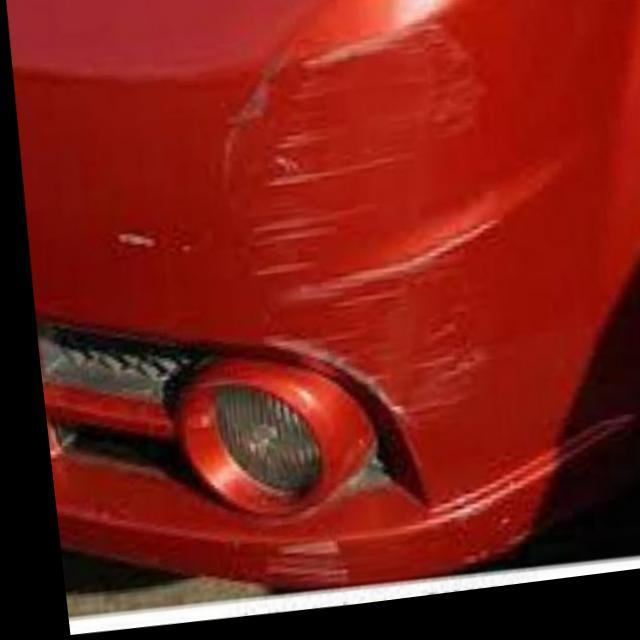rub: (244, 26, 492, 431)
